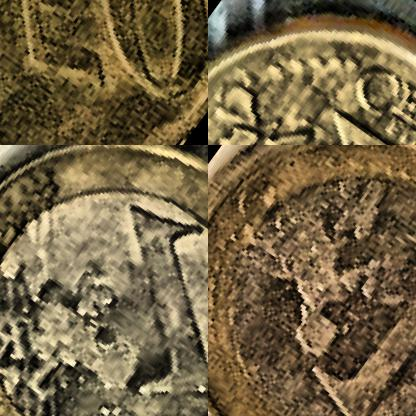coin: (0, 145, 207, 415), (208, 145, 415, 415), (0, 0, 207, 144), (208, 0, 415, 144)
